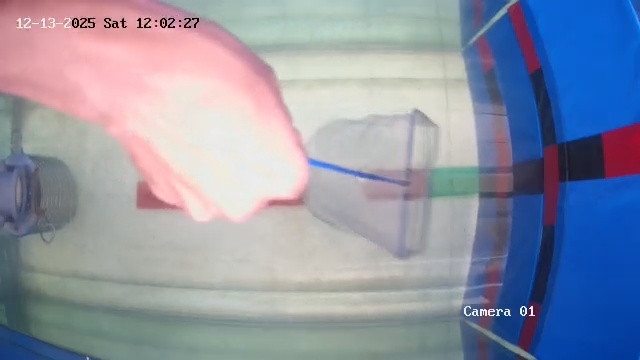fish: (468, 213, 503, 256)
